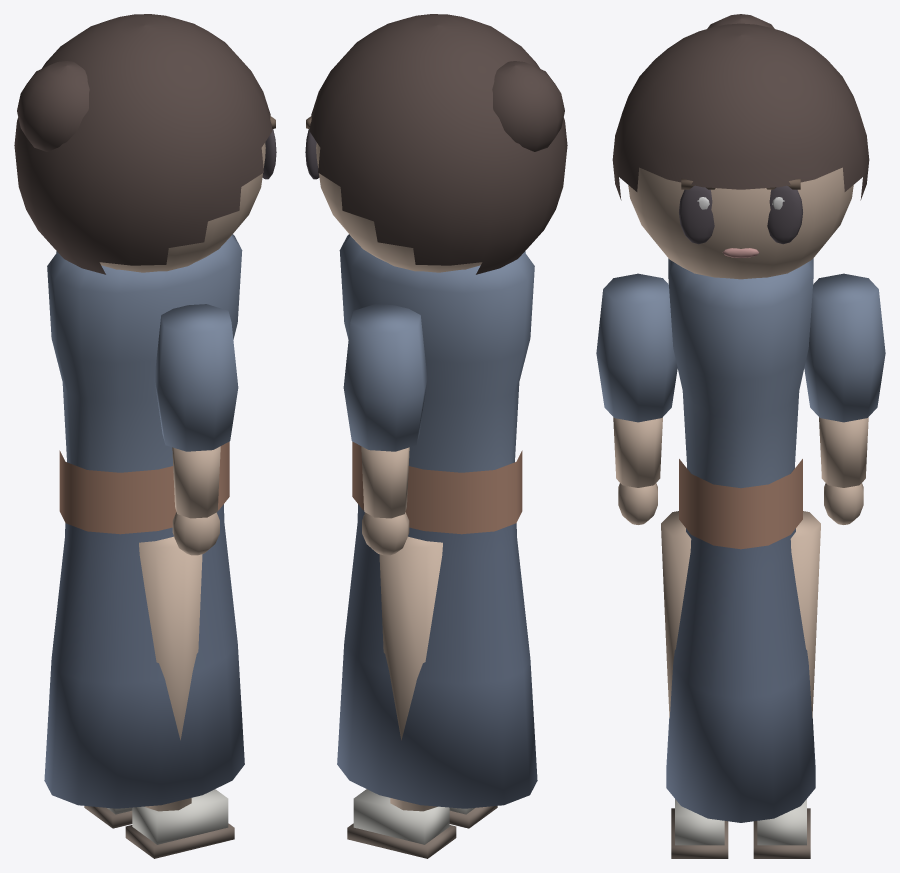
Rendered from villager_a.glb.
The picture shows the model from 3 angles, left to right: view 1: azimuth 30°, elevation 25°; view 2: azimuth 150°, elevation 25°; view 3: azimuth 270°, elevation 25°; orthographic projection.
Visible parts, largest first — view 1: Body, Head, ArmR, LegR, LegL; view 2: Body, Head, ArmL, LegL, LegR; view 3: Body, Head, ArmL, ArmR, LegL, LegR.
Part boxes in pixels (left/top/right/bottom): Body: left=44, top=234, right=244, bottom=808; Head: left=14, top=14, right=276, bottom=274; ArmR: left=154, top=304, right=238, bottom=555; LegR: left=125, top=536, right=234, bottom=858; LegL: left=84, top=806, right=132, bottom=828; Body: left=337, top=234, right=537, bottom=808; Head: left=305, top=14, right=567, bottom=274; ArmL: left=343, top=304, right=427, bottom=555; LegL: left=347, top=536, right=456, bottom=858; LegR: left=449, top=806, right=497, bottom=828; Body: left=666, top=258, right=815, bottom=822; Head: left=612, top=14, right=869, bottom=279; ArmL: left=804, top=273, right=885, bottom=524; ArmR: left=596, top=273, right=677, bottom=524; LegL: left=753, top=511, right=820, bottom=858; LegR: left=661, top=511, right=728, bottom=858.
Bounding box in the file's own units: 0.3771 × 1.24 × 0.4078.
